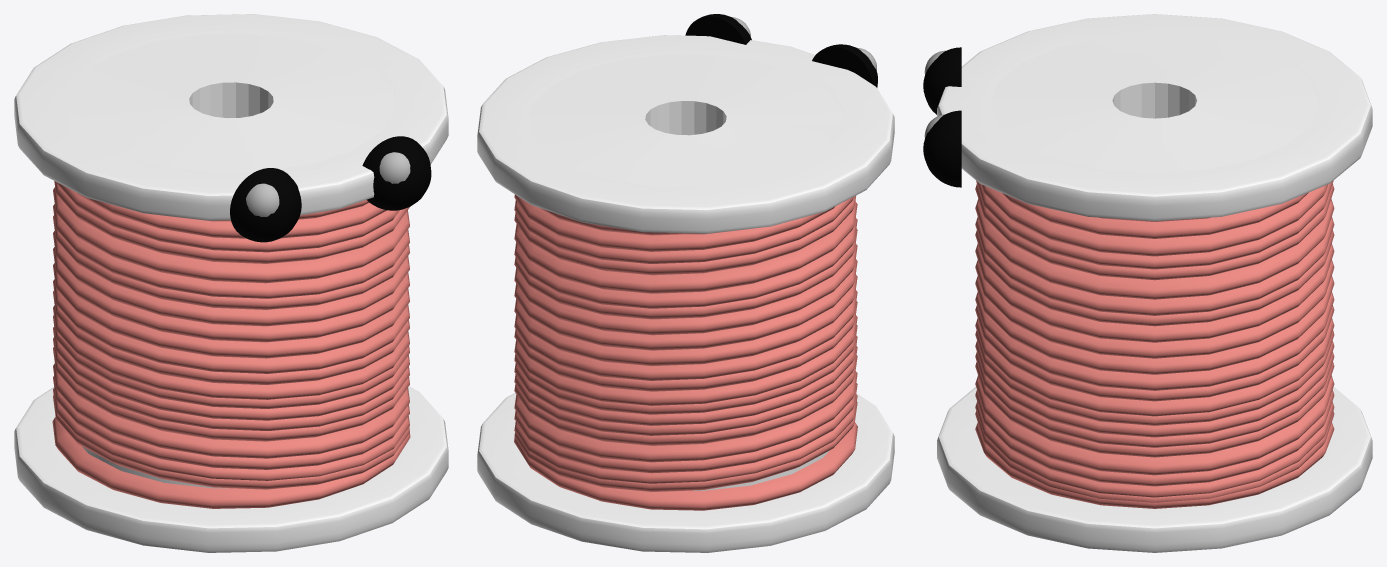
File: fukude3.glb
3 renders of one model, left to right at view 1: azimuth 30°, elevation 25°; view 2: azimuth 150°, elevation 25°; view 3: azimuth 270°, elevation 25°, orthographic. The views are drawn at different scales.
Parts seen in each view (by area): view 1: pCylinder4, pTorus9, pTorus29, pTorus24, pTorus12, pTorus14, pTorus13, pTorus10, pTorus16, pTorus18, pTorus6, pTorus20 (+14 smaller); view 2: pCylinder4, pTorus9, pTorus29, pTorus24, pTorus12, pTorus14, pTorus13, pTorus10, pTorus16, pTorus18, pTorus5, pTorus6 (+13 smaller); view 3: pCylinder4, pTorus9, pTorus24, pTorus12, pTorus10, pTorus5, pTorus14, pTorus16, pTorus13, pTorus18, pTorus6, pTorus20 (+13 smaller).
Part boxes in pixels (bbox=[...]): pCylinder4: bbox=[14, 14, 448, 552]; pTorus9: bbox=[53, 187, 409, 283]; pTorus29: bbox=[52, 417, 410, 508]; pTorus24: bbox=[53, 363, 409, 458]; pTorus12: bbox=[53, 231, 409, 326]; pTorus14: bbox=[53, 263, 409, 358]; pTorus13: bbox=[53, 247, 409, 342]; pTorus10: bbox=[53, 204, 409, 298]; pTorus16: bbox=[53, 279, 409, 373]; pTorus18: bbox=[53, 305, 409, 399]; pTorus6: bbox=[56, 182, 399, 252]; pTorus20: bbox=[53, 326, 409, 420]; pCylinder4: bbox=[477, 35, 894, 552]; pTorus9: bbox=[514, 201, 857, 293]; pTorus29: bbox=[514, 422, 857, 510]; pTorus24: bbox=[514, 371, 857, 462]; pTorus12: bbox=[514, 243, 857, 335]; pTorus14: bbox=[514, 274, 857, 365]; pTorus13: bbox=[514, 259, 857, 350]; pTorus10: bbox=[514, 217, 857, 308]; pTorus16: bbox=[514, 290, 857, 380]; pTorus18: bbox=[514, 315, 857, 405]; pTorus5: bbox=[514, 194, 834, 251]; pTorus6: bbox=[514, 196, 854, 263]; pCylinder4: bbox=[937, 14, 1372, 552]; pTorus9: bbox=[975, 199, 1334, 299]; pTorus24: bbox=[975, 375, 1334, 475]; pTorus12: bbox=[975, 243, 1334, 342]; pTorus10: bbox=[975, 217, 1334, 315]; pTorus5: bbox=[981, 184, 1327, 256]; pTorus14: bbox=[975, 276, 1334, 374]; pTorus16: bbox=[975, 292, 1334, 390]; pTorus13: bbox=[975, 260, 1334, 358]; pTorus18: bbox=[975, 318, 1334, 416]; pTorus6: bbox=[976, 180, 1333, 269]; pTorus20: bbox=[975, 341, 1334, 437].
Bounding box in the file's own units: 0.0466 × 0.0453 × 0.0481.
